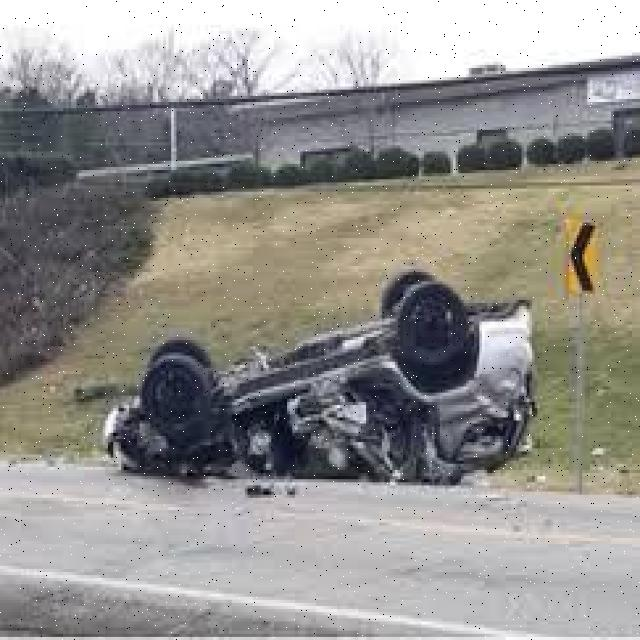severe: (100, 263, 537, 482)
